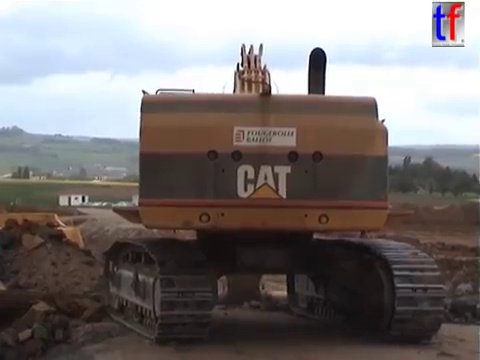excavator: (99, 40, 450, 347)
truck: (1, 209, 130, 360)
